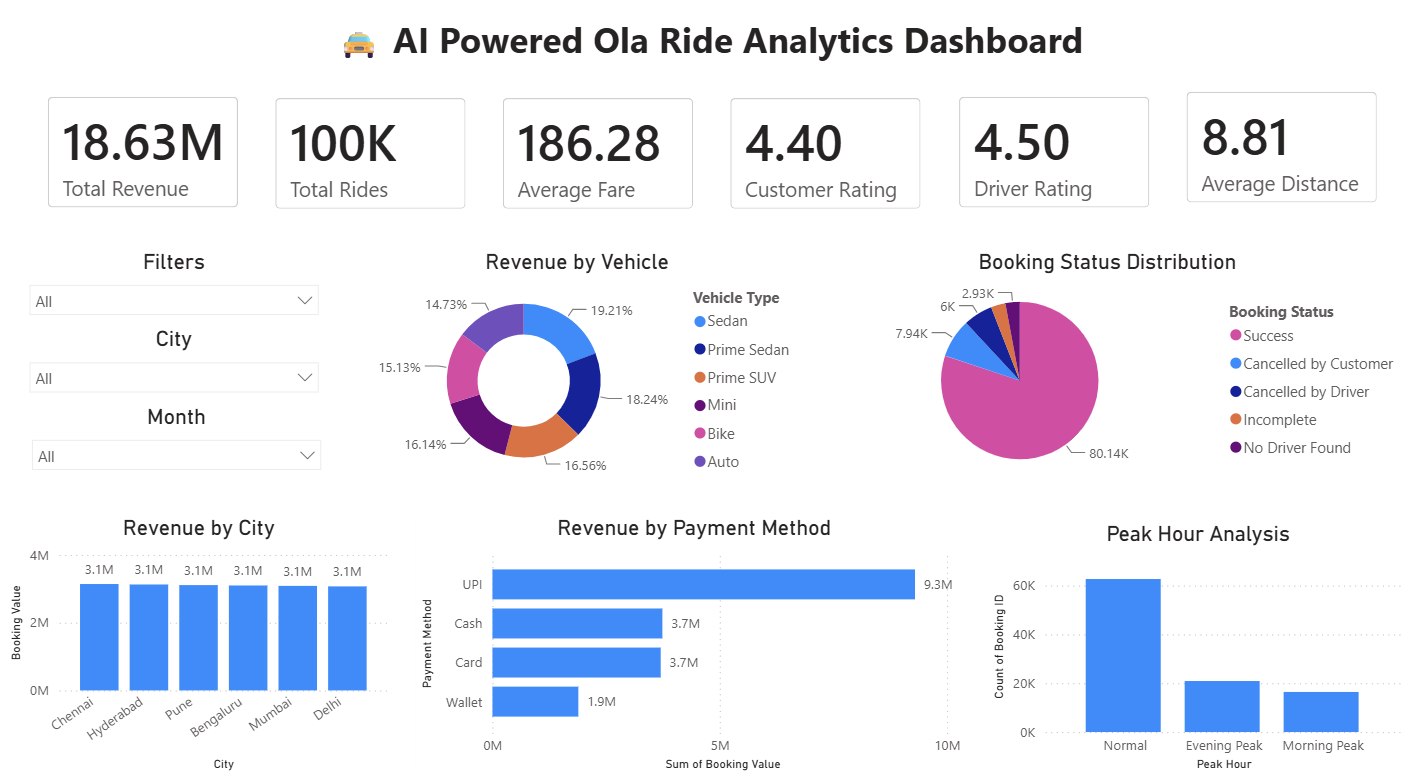

This screenshot's page, from the dashboard's own definition file:
{"tool":"powerbi","page":{"name":"Executive Dashboard","canvas":[1280,720],"ordinal":0},"visuals":[{"type":"cardVisual","fields":{"Data":["Sum(ola_cleaned.Booking Value)"]},"box":[28,82,206,134],"z":0},{"type":"cardVisual","fields":{"Data":["CountNonNull(ola_cleaned.Booking ID)"]},"box":[234,84,206,134],"z":1000},{"type":"cardVisual","fields":{"Data":["Avg(ola_cleaned.Booking Value)"]},"box":[440,84,206,134],"z":2000},{"type":"cardVisual","fields":{"Data":["Avg(ola_cleaned.Ride Distance (km))"]},"box":[1058,78,206,134],"z":3000},{"type":"cardVisual","fields":{"Data":["Avg(ola_cleaned.Driver Rating)"]},"box":[852,82,206,134],"z":4000},{"type":"cardVisual","fields":{"Data":["Avg(ola_cleaned.Customer Rating)"]},"box":[646,84,206,134],"z":5000},{"type":"textbox","box":[300,20,720,68],"z":6000},{"type":"clusteredColumnChart","title":"Revenue by City","fields":{"Category":["ola_cleaned.City"],"Y":["Sum(ola_cleaned.Booking Value)"]},"box":[6,478,352,236],"z":7000},{"type":"donutChart","title":"Revenue by Vehicle","fields":{"Category":["ola_cleaned.Vehicle Type"],"Y":["Sum(ola_cleaned.Booking Value)"]},"box":[318,238,412,216],"z":8000},{"type":"pieChart","title":"Booking Status Distribution","fields":{"Category":["ola_cleaned.Booking Status"],"Y":["CountNonNull(ola_cleaned.Booking ID)"]},"box":[730,238,546,216],"z":9000},{"type":"clusteredBarChart","title":"Revenue by Payment Method","fields":{"Category":["ola_cleaned.Payment Method"],"Y":["Sum(ola_cleaned.Booking Value)"]},"box":[378,478,504,236],"z":10000},{"type":"columnChart","title":"Peak Hour Analysis","fields":{"Category":["ola_cleaned.Peak Hour"],"Y":["CountNonNull(ola_cleaned.Booking ID)"]},"box":[896,484,380,230],"z":11000},{"type":"slicer","title":"Filters","fields":{"Values":["ola_cleaned.City"]},"box":[18,238,282,76],"z":12000},{"type":"slicer","title":"City","fields":{"Values":["ola_cleaned.Vehicle Type"]},"box":[18,308,282,76],"z":13000},{"type":"slicer","title":"Month","fields":{"Values":["ola_cleaned.Month"]},"box":[20,378,282,76],"z":14000}]}

Visuals, with their boxes in screenshot pixels (x1, y1, x2, y2), scaled from the page's 1280x720 canvas onto the 1410x773 screenshot:
cardVisual - Sum(ola_cleaned.Booking Value): l=31, t=88, r=258, b=232
cardVisual - CountNonNull(ola_cleaned.Booking ID): l=258, t=90, r=485, b=234
cardVisual - Avg(ola_cleaned.Booking Value): l=485, t=90, r=712, b=234
cardVisual - Avg(ola_cleaned.Ride Distance (km)): l=1165, t=84, r=1392, b=228
cardVisual - Avg(ola_cleaned.Driver Rating): l=939, t=88, r=1165, b=232
cardVisual - Avg(ola_cleaned.Customer Rating): l=712, t=90, r=939, b=234
textbox: l=330, t=21, r=1124, b=94
"Revenue by City" clusteredColumnChart: l=7, t=513, r=394, b=767
"Revenue by Vehicle" donutChart: l=350, t=256, r=804, b=487
"Booking Status Distribution" pieChart: l=804, t=256, r=1406, b=487
"Revenue by Payment Method" clusteredBarChart: l=416, t=513, r=972, b=767
"Peak Hour Analysis" columnChart: l=987, t=520, r=1406, b=767
"Filters" slicer: l=20, t=256, r=330, b=337
"City" slicer: l=20, t=331, r=330, b=412
"Month" slicer: l=22, t=406, r=333, b=487
